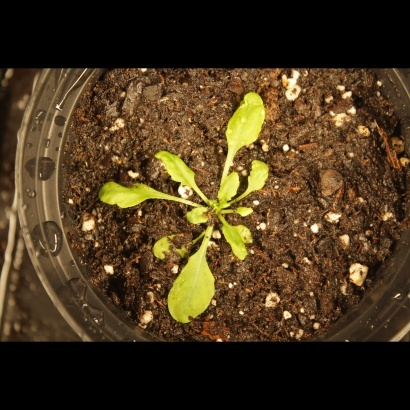leaf: (164, 246, 218, 326), (219, 81, 270, 158), (97, 173, 160, 215), (150, 144, 202, 193), (219, 217, 251, 263), (145, 229, 193, 259), (243, 156, 275, 197), (216, 167, 244, 206), (181, 198, 213, 229)
